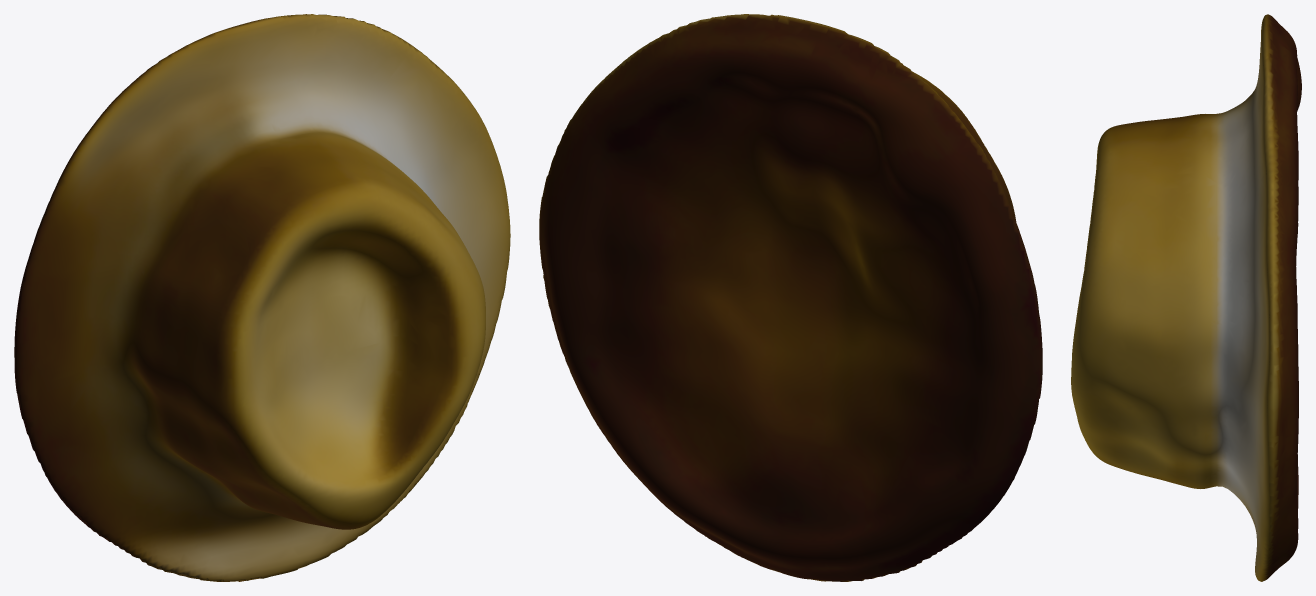
Rendered from hat.glb.
3 views of the same model, side by side, from view 1: azimuth 30°, elevation 25°; view 2: azimuth 150°, elevation 25°; view 3: azimuth 270°, elevation 25° (orthographic). The views are drawn at different scales.
Size of the model in its own units: 0.9305 by 0.9977 by 0.407.
